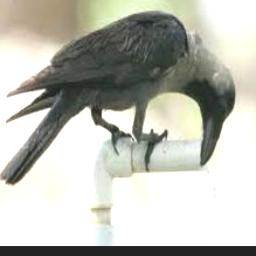Crow: (1, 10, 236, 185)
